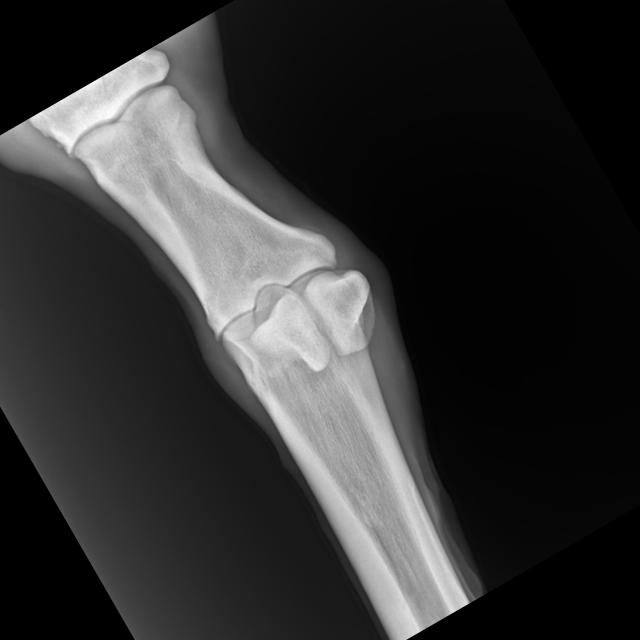joint-ht8A: (116, 138, 455, 486)
